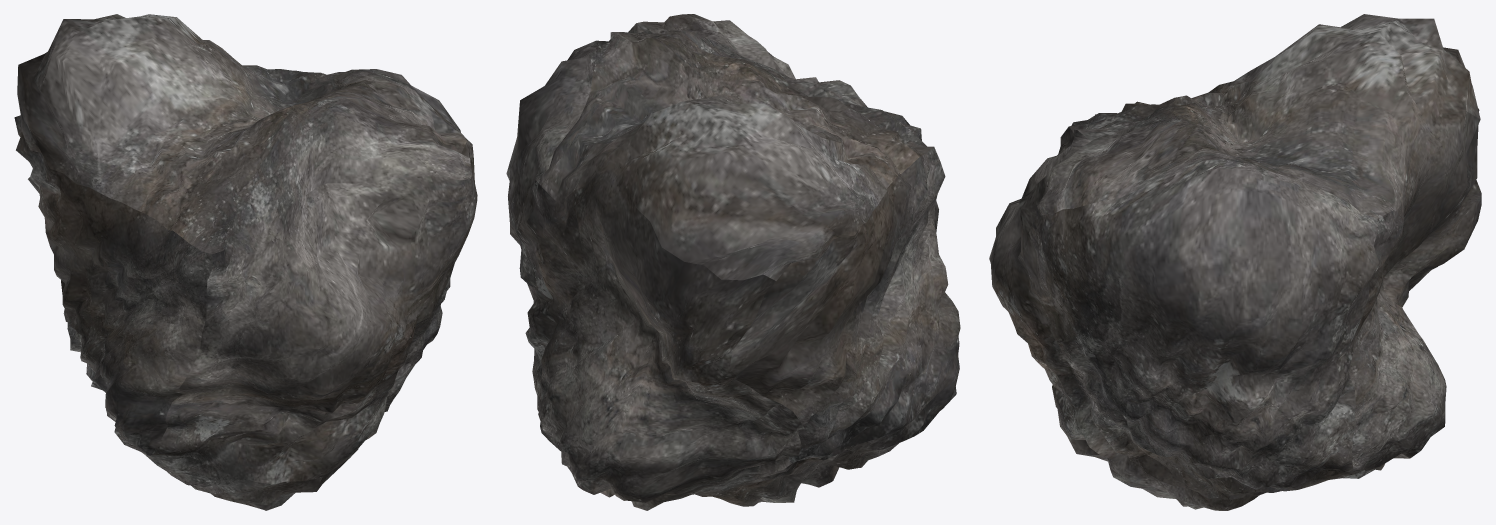
File: asteroid01.obj
3 renders of one model, left to right at view 1: azimuth 30°, elevation 25°; view 2: azimuth 150°, elevation 25°; view 3: azimuth 270°, elevation 25°, orthographic. The views are drawn at different scales.
Parts seen in each view (by area): view 1: pCube1; view 2: pCube1; view 3: pCube1.
Part boxes in pixels (box(x1,y1,x2,y2)): pCube1: box(14, 14, 477, 510); pCube1: box(506, 14, 960, 510); pCube1: box(989, 14, 1481, 510).
Size of the model in its own units: 39.69 by 45.16 by 44.51.
